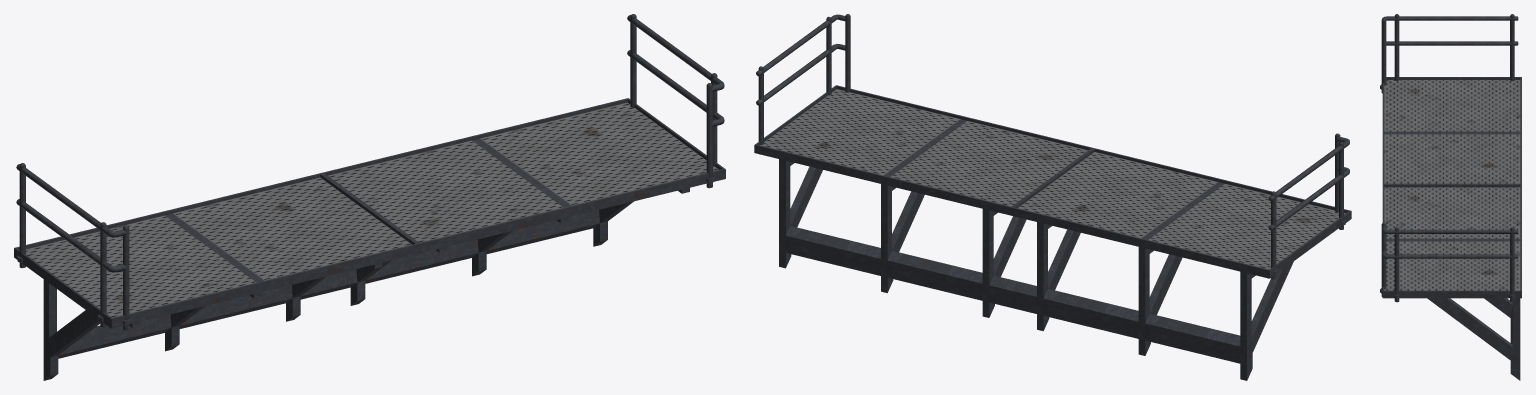
Rendered from CS_Platform02_Wide.fbx.
The picture shows the model from 3 angles, left to right: view 1: azimuth 30°, elevation 25°; view 2: azimuth 150°, elevation 25°; view 3: azimuth 270°, elevation 25°; orthographic projection. The views are drawn at different scales.
Visible parts, largest first — view 1: pCylinder36; view 2: pCylinder36; view 3: pCylinder36.
Part boxes in pixels (left/top/right/bottom): pCylinder36: left=14, top=14, right=725, bottom=380; pCylinder36: left=754, top=14, right=1351, bottom=380; pCylinder36: left=1380, top=14, right=1521, bottom=380.
Size of the model in its own units: 5.18 by 1.82 by 1.43.
